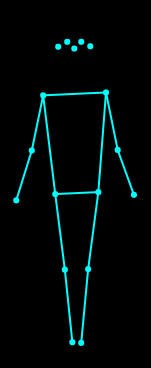mountain: (10, 31, 140, 347)
